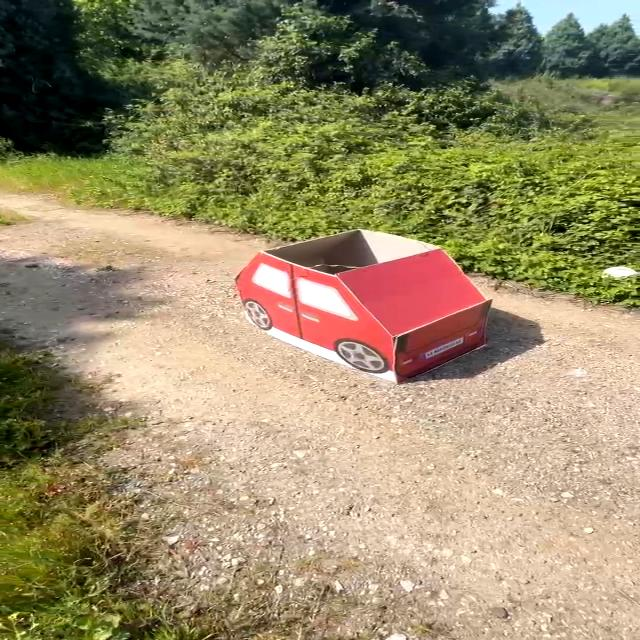red_car: (226, 221, 512, 399)
